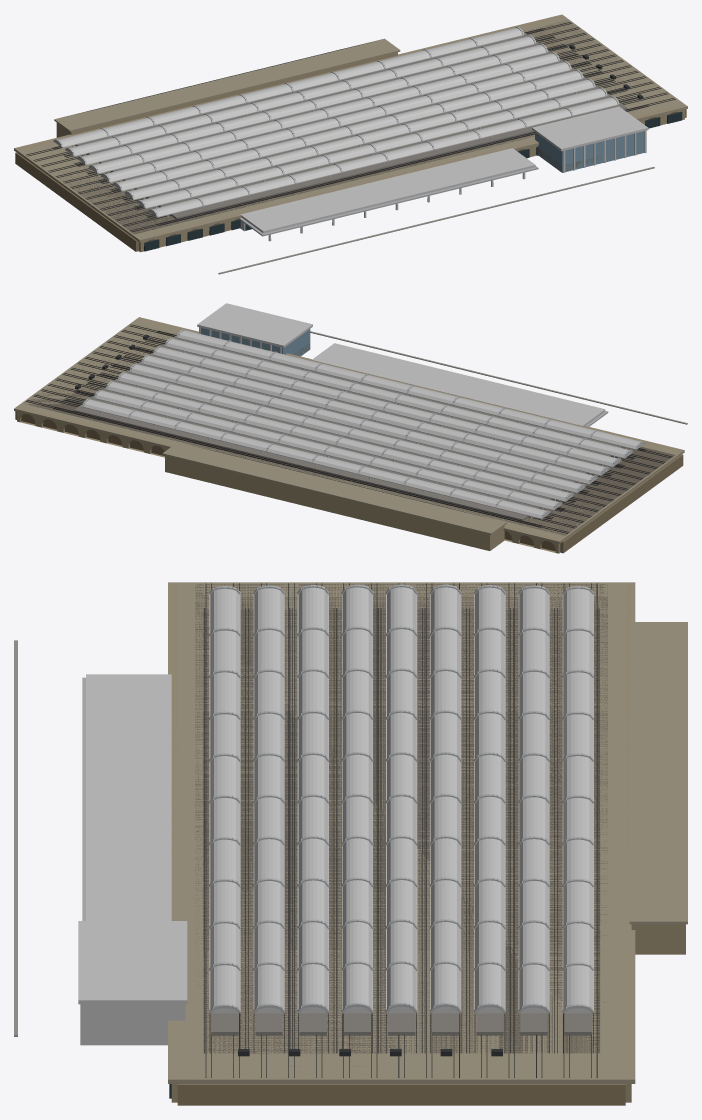
Rendered from london_bridge_station.glb.
The picture shows the model from 3 angles, top to bottom: view 1: azimuth 30°, elevation 25°; view 2: azimuth 150°, elevation 25°; view 3: azimuth 270°, elevation 25°; orthographic projection. The views are drawn at different scales.
Parts seen in each view (by area): view 1: london_bridge_station; view 2: london_bridge_station; view 3: london_bridge_station.
Boxes of the visible parts, left/top/right/bottom form: london_bridge_station: left=14, top=14, right=687, bottom=274; london_bridge_station: left=14, top=303, right=687, bottom=553; london_bridge_station: left=14, top=582, right=687, bottom=1105.
Bounding box in the file's own units: 303 × 13.8 × 173.
